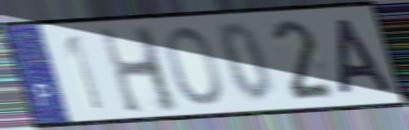0: (218, 20, 276, 106)
1: (63, 33, 105, 110)
2: (271, 17, 339, 103)
A: (333, 16, 397, 98)
H: (96, 24, 183, 117)
O: (163, 24, 225, 108)
